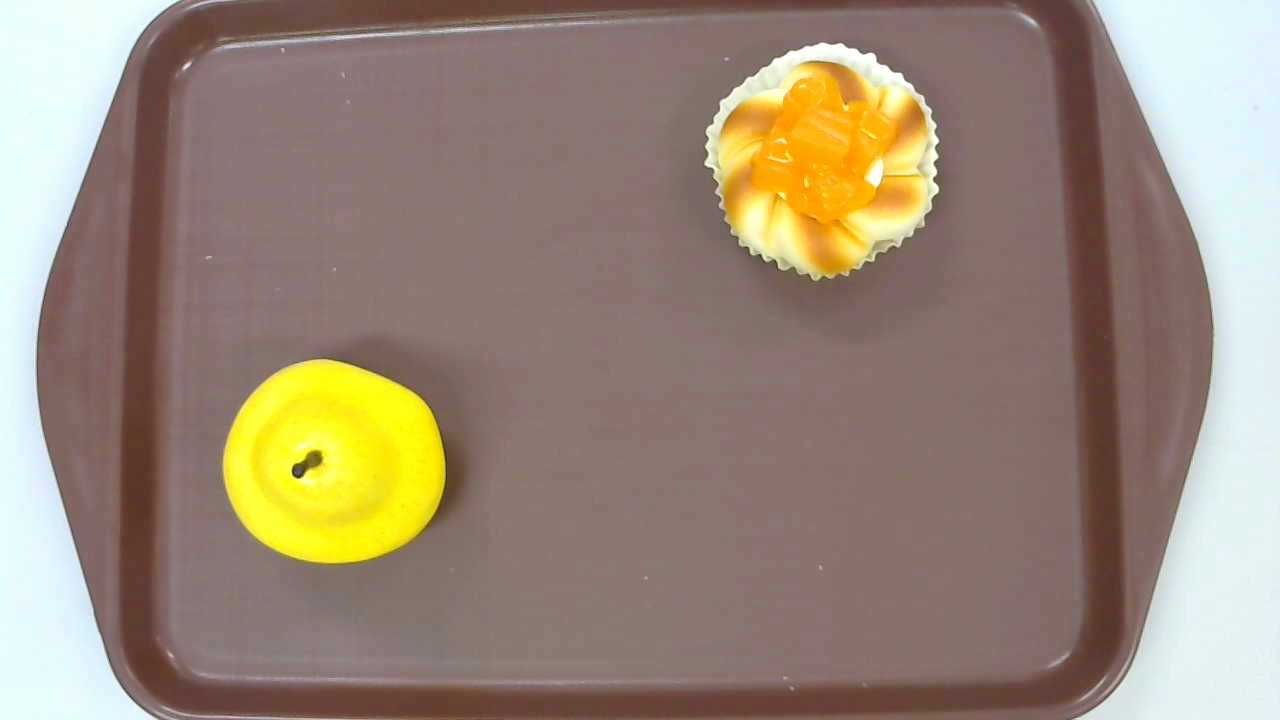mango tart: (704, 42, 938, 282)
yellow pear: (222, 359, 447, 566)
